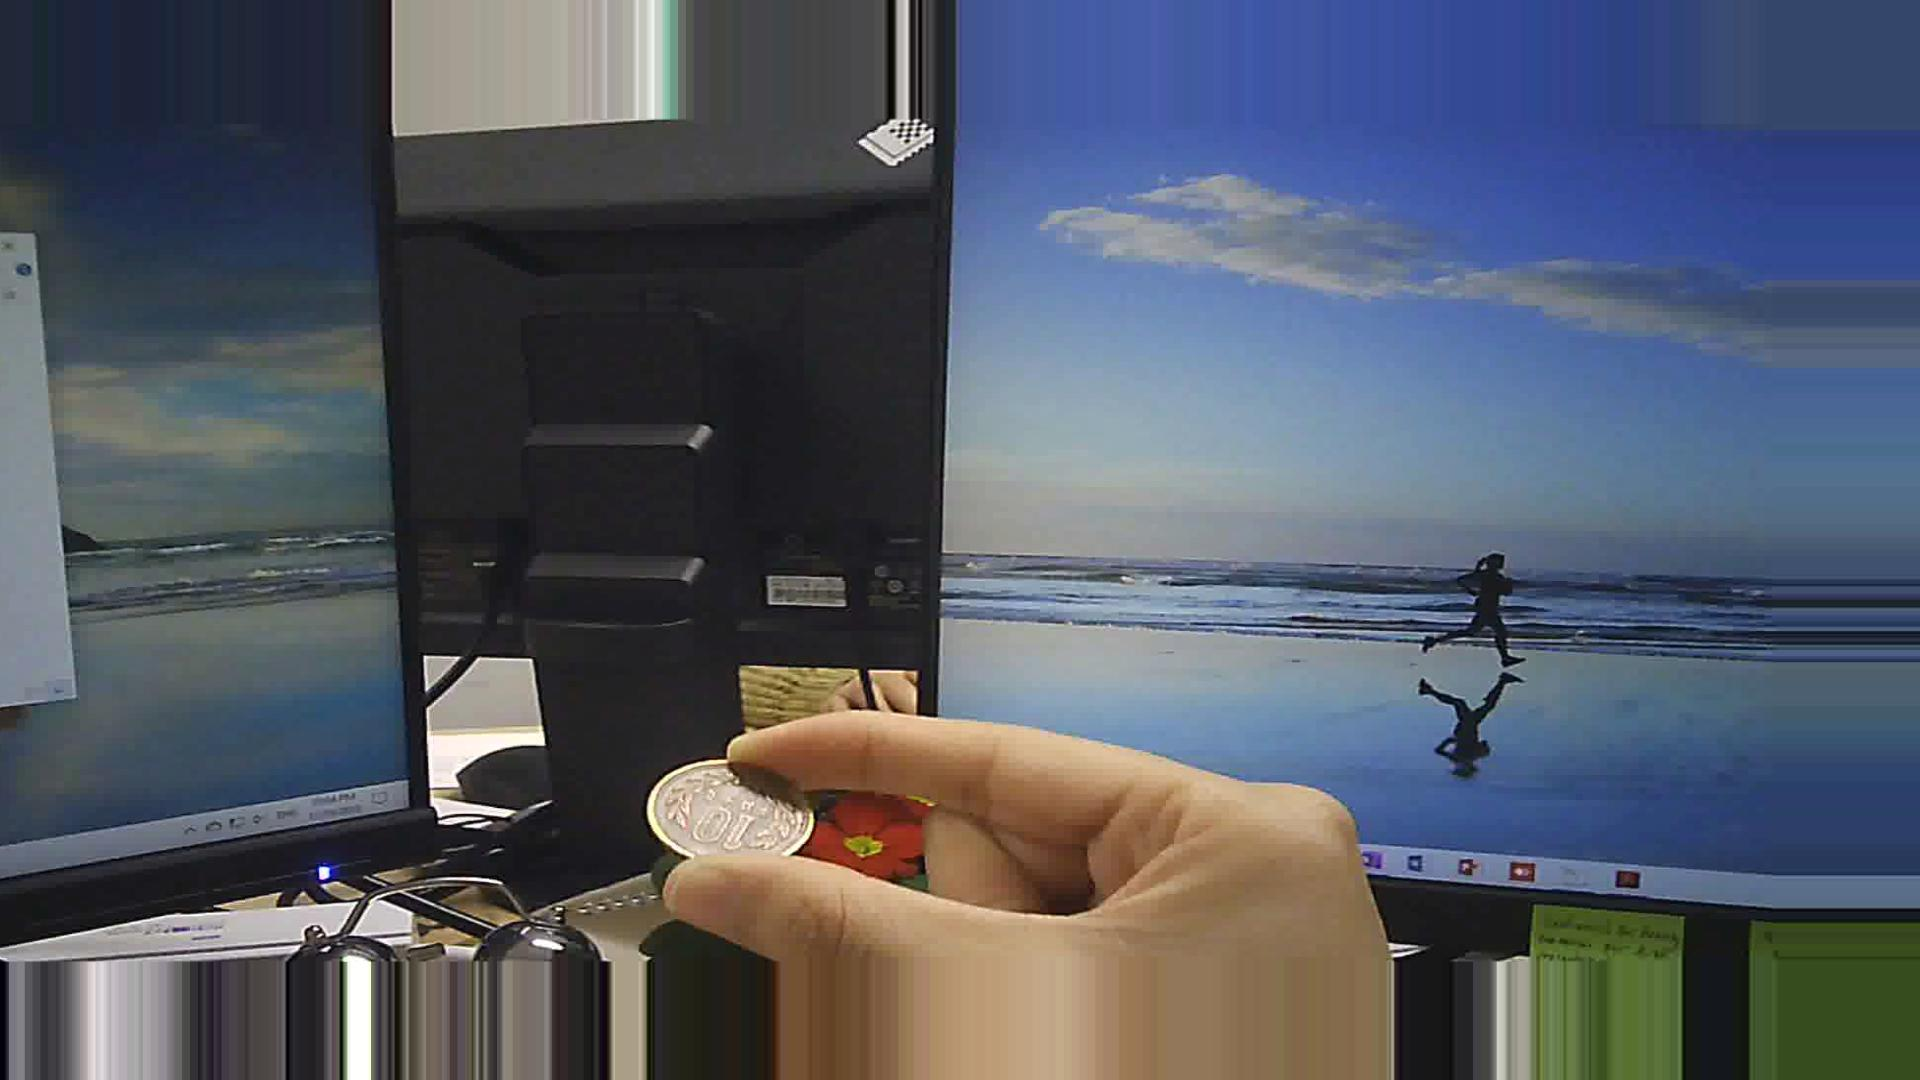10 Yen: (626, 745, 820, 887)
